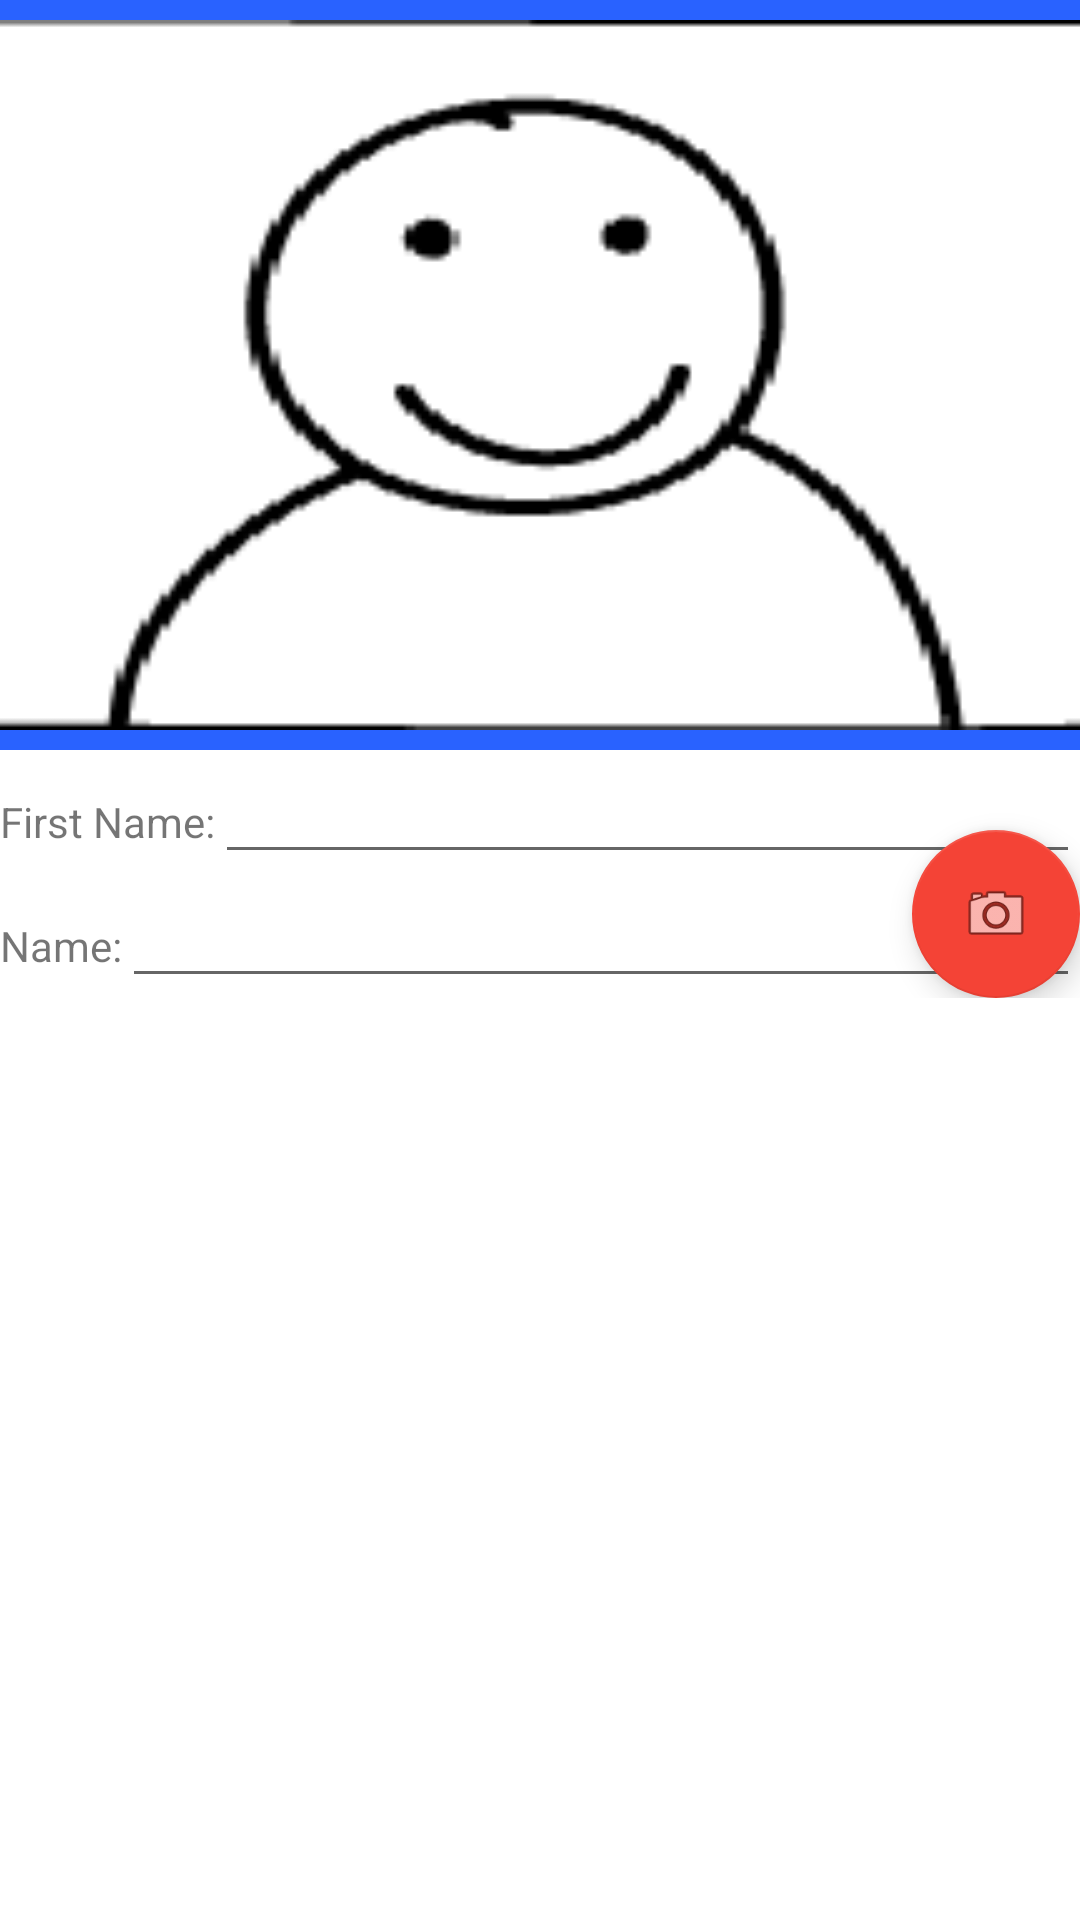

Point at icon controls on the screen. Image size 1080 x 1920, points as [x,y].
camera: [996,914]
